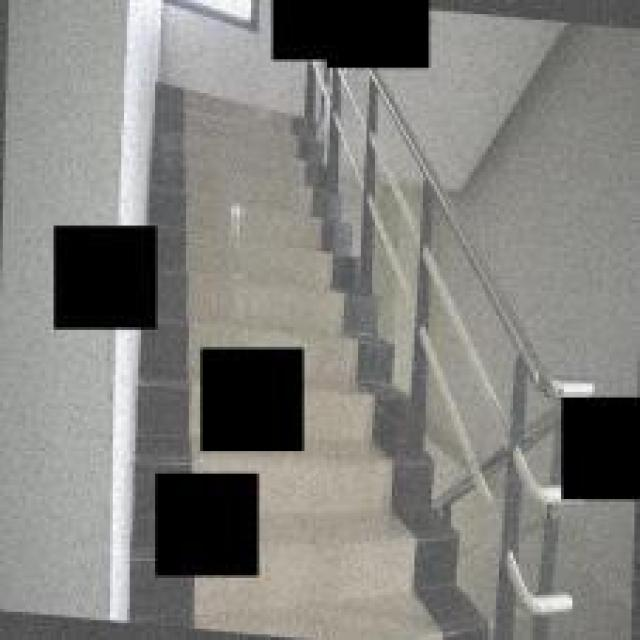upstair: (165, 80, 320, 336)
